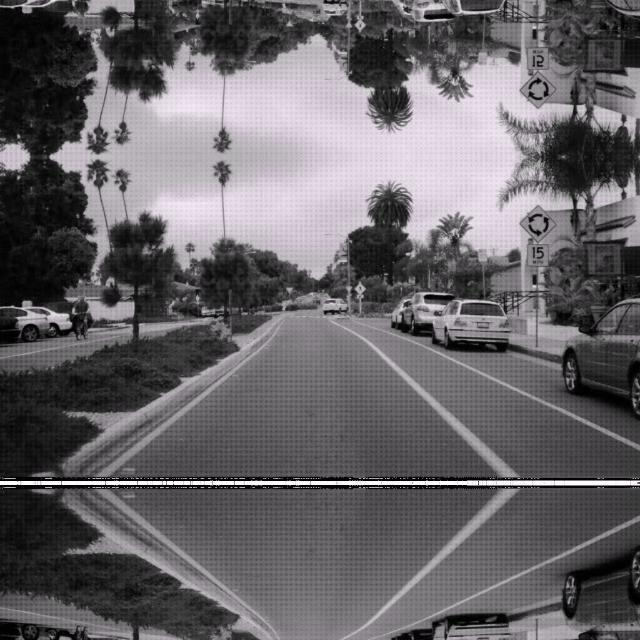pedestrianCrossing: (354, 282, 366, 292), (354, 20, 366, 30)
